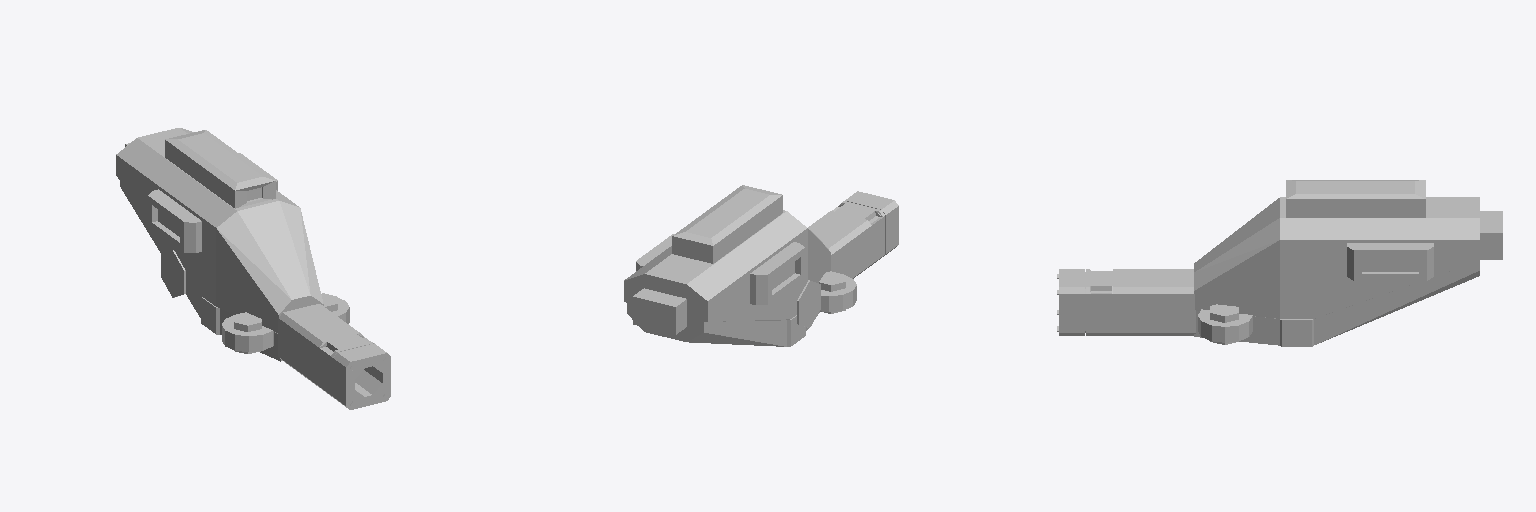
Rendered from RM2018_Standard_Turret.obj.
3 views of the same model, side by side, from view 1: azimuth 30°, elevation 25°; view 2: azimuth 150°, elevation 25°; view 3: azimuth 270°, elevation 25° (orthographic).
Parts seen in each view (by area): view 1: polySurface189; view 2: polySurface189; view 3: polySurface189.
Part boxes in pixels (left/top/right/bottom): polySurface189: left=116, top=128, right=390, bottom=409; polySurface189: left=624, top=185, right=898, bottom=346; polySurface189: left=1057, top=180, right=1502, bottom=346.
Size of the model in its own units: 1.42 by 1.51 by 4.35.